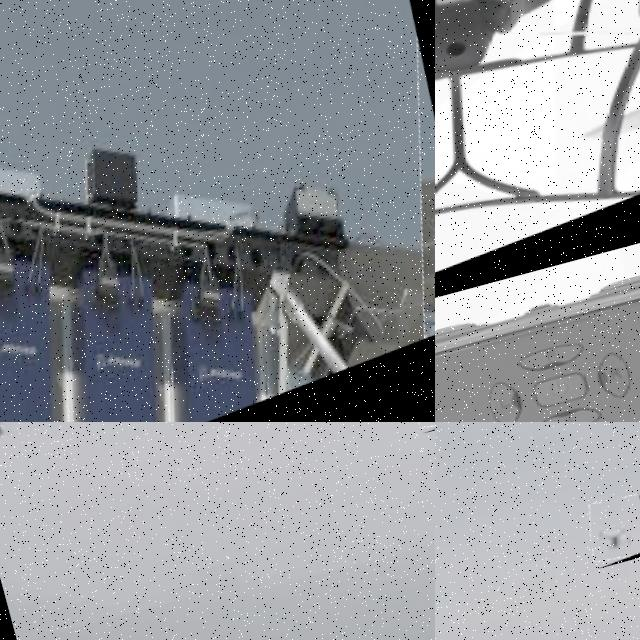drone: (0, 0, 435, 422), (435, 0, 640, 353), (581, 492, 640, 568)
